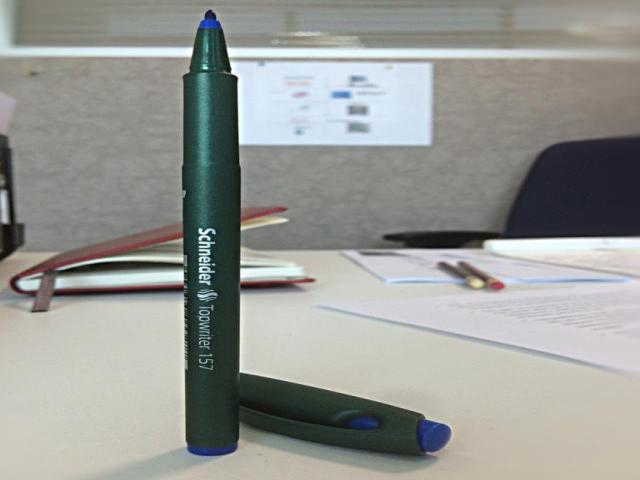PEN: (166, 2, 446, 480)
